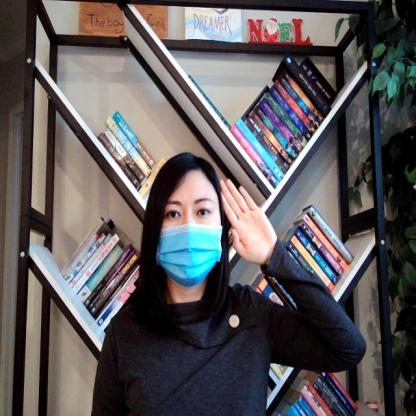hello: (216, 175, 279, 265)
